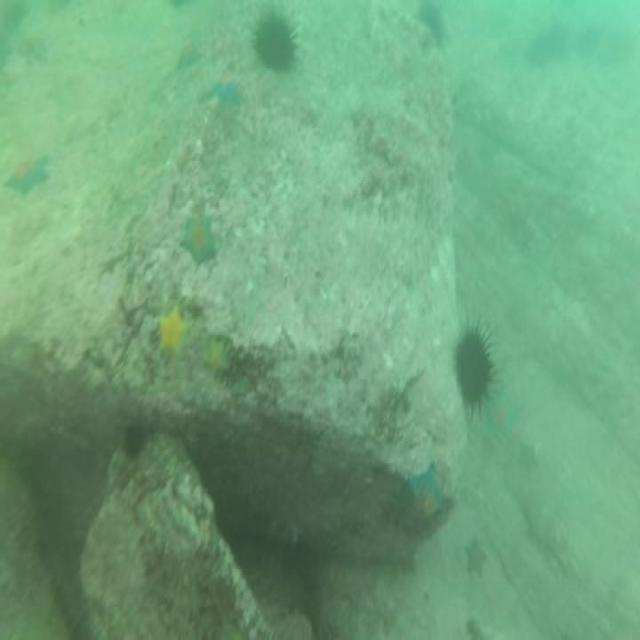echinus: (452, 310, 499, 418), (249, 3, 299, 74), (412, 0, 449, 51), (120, 419, 149, 463)
starfish: (400, 456, 452, 544), (2, 148, 54, 198), (154, 300, 193, 365), (180, 209, 220, 270), (482, 386, 521, 442), (211, 65, 246, 114), (203, 335, 236, 386), (463, 528, 489, 580), (516, 438, 540, 482), (176, 38, 205, 74)
